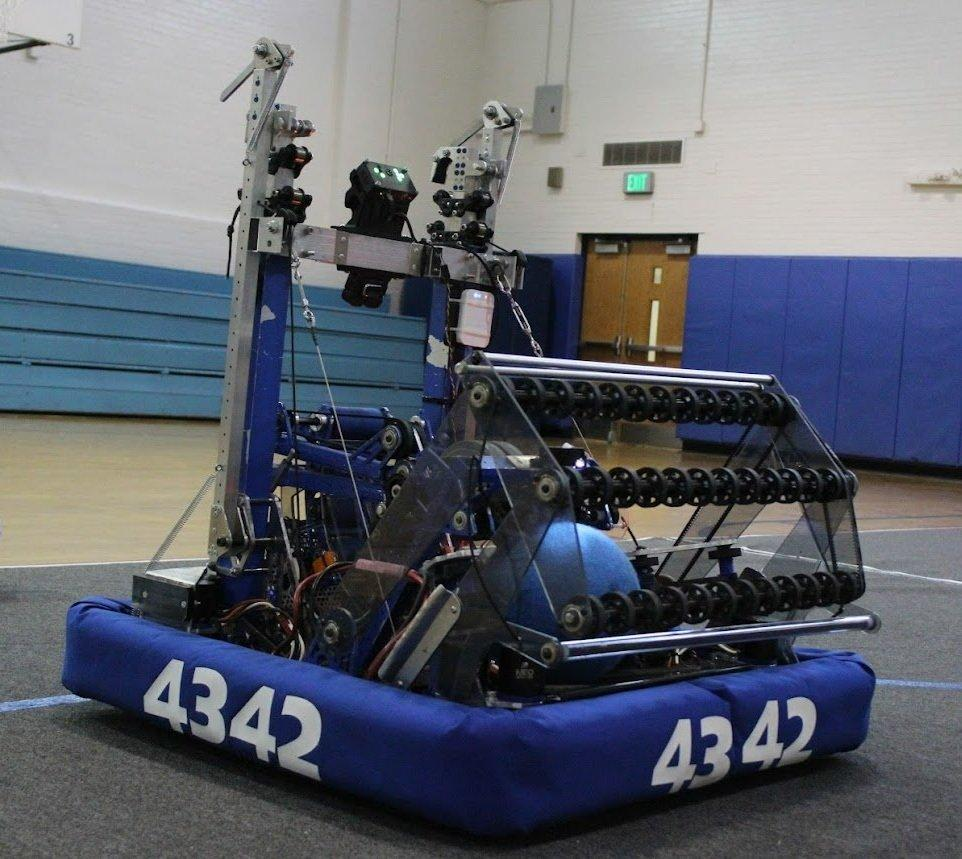robot: (62, 28, 888, 853)
